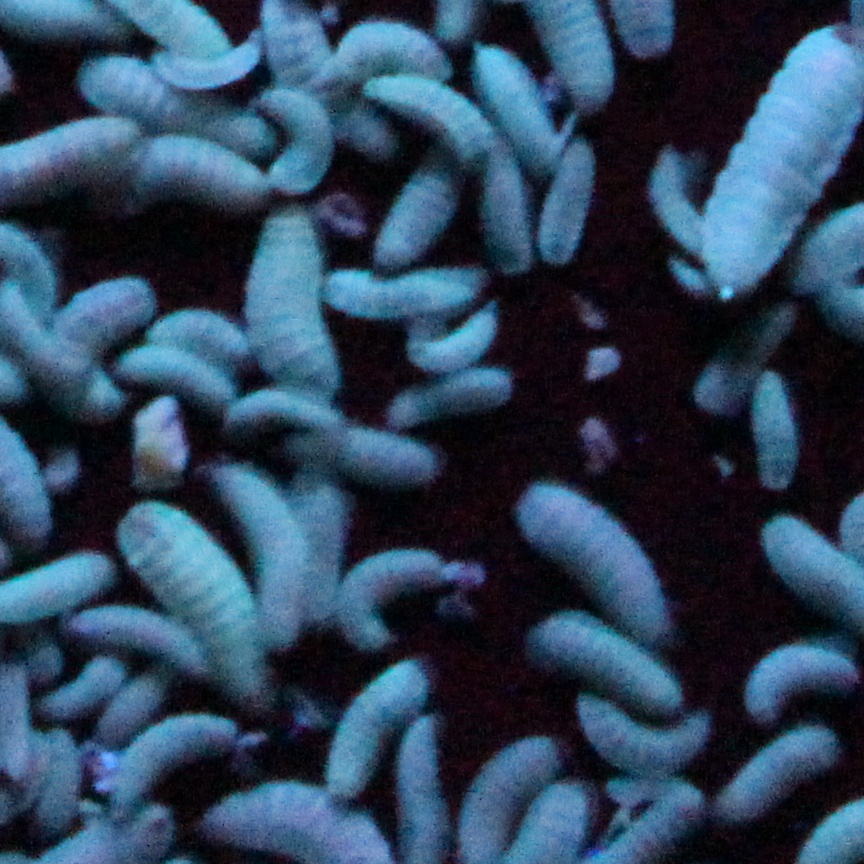larve: (706, 53, 855, 296), (130, 509, 255, 694), (529, 503, 671, 625), (258, 222, 344, 391), (88, 70, 250, 142), (334, 671, 420, 800), (542, 625, 676, 707), (234, 485, 298, 642), (75, 285, 148, 408), (117, 710, 232, 788), (265, 3, 335, 130), (140, 142, 267, 208), (381, 163, 457, 271), (737, 725, 837, 805), (322, 268, 481, 316), (386, 80, 489, 153), (350, 548, 430, 637), (603, 710, 722, 768), (486, 50, 553, 153), (749, 637, 849, 705), (701, 317, 781, 401), (70, 603, 186, 660), (391, 378, 514, 427), (306, 435, 435, 481), (491, 145, 540, 265), (334, 26, 442, 76), (759, 376, 807, 486), (544, 137, 591, 248), (14, 311, 81, 385), (157, 316, 252, 367), (306, 485, 342, 619), (271, 99, 321, 191), (422, 314, 499, 373), (130, 357, 226, 404), (237, 394, 345, 434), (665, 163, 704, 248), (112, 675, 163, 737), (47, 742, 90, 815), (162, 57, 247, 89), (47, 663, 122, 699)
